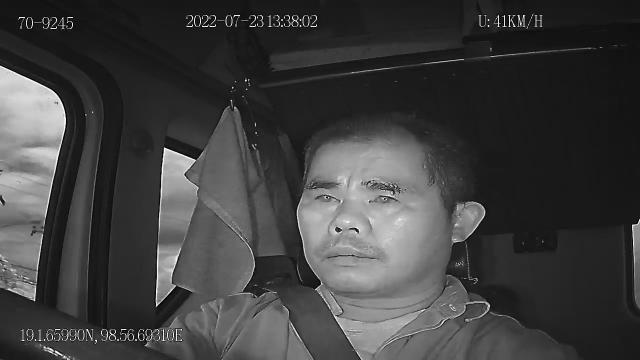SafeDriving: (358, 176, 407, 212), (304, 182, 346, 209)
Seatbelt: (252, 282, 364, 360)
